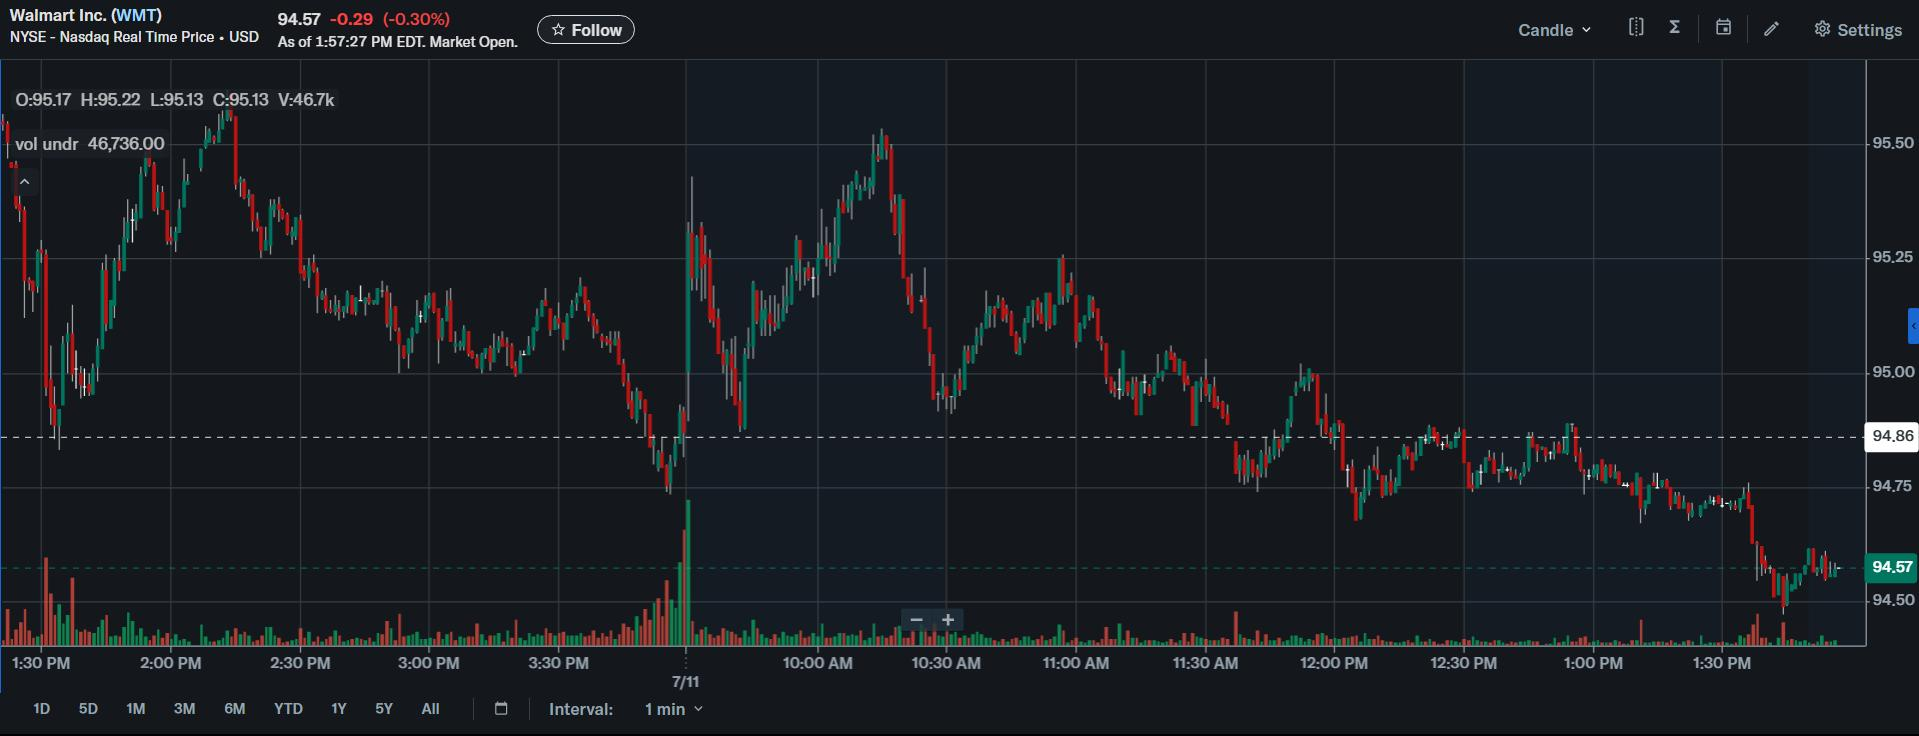Downtrend: (215, 104, 410, 381), (1056, 242, 1252, 517), (573, 268, 673, 512)
Sideways: (1396, 410, 1590, 505)
Uptrend: (736, 122, 889, 435), (75, 153, 149, 403)
